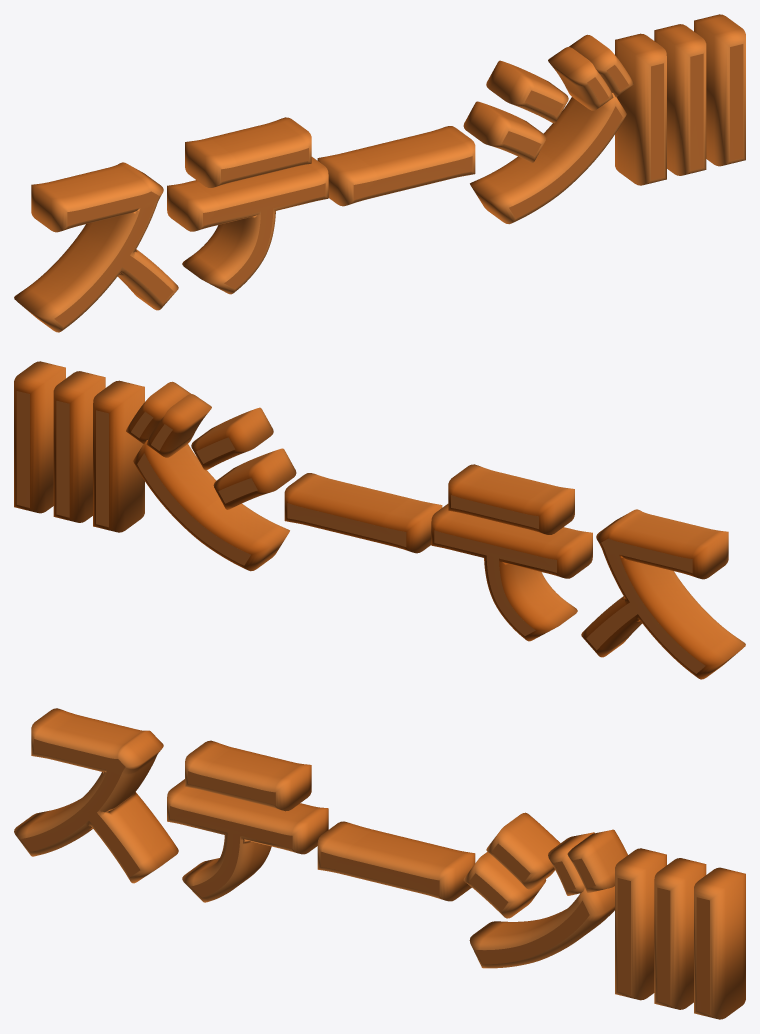
File: stage3.obj
The picture shows the model from 3 angles, top to bottom: view 1: azimuth 30°, elevation 25°; view 2: azimuth 150°, elevation 25°; view 3: azimuth 330°, elevation 25°; orthographic projection.
Parts seen in each view (by area): view 1: テキスト; view 2: テキスト; view 3: テキスト.
Boxes of the visible parts, left/top/right/bottom form: テキスト: left=14, top=14, right=745, bottom=332; テキスト: left=14, top=361, right=745, bottom=679; テキスト: left=14, top=708, right=745, bottom=1019.
Bounding box in the file's own units: 2.47 × 0.5018 × 0.2.
1 material, 1 textured.
